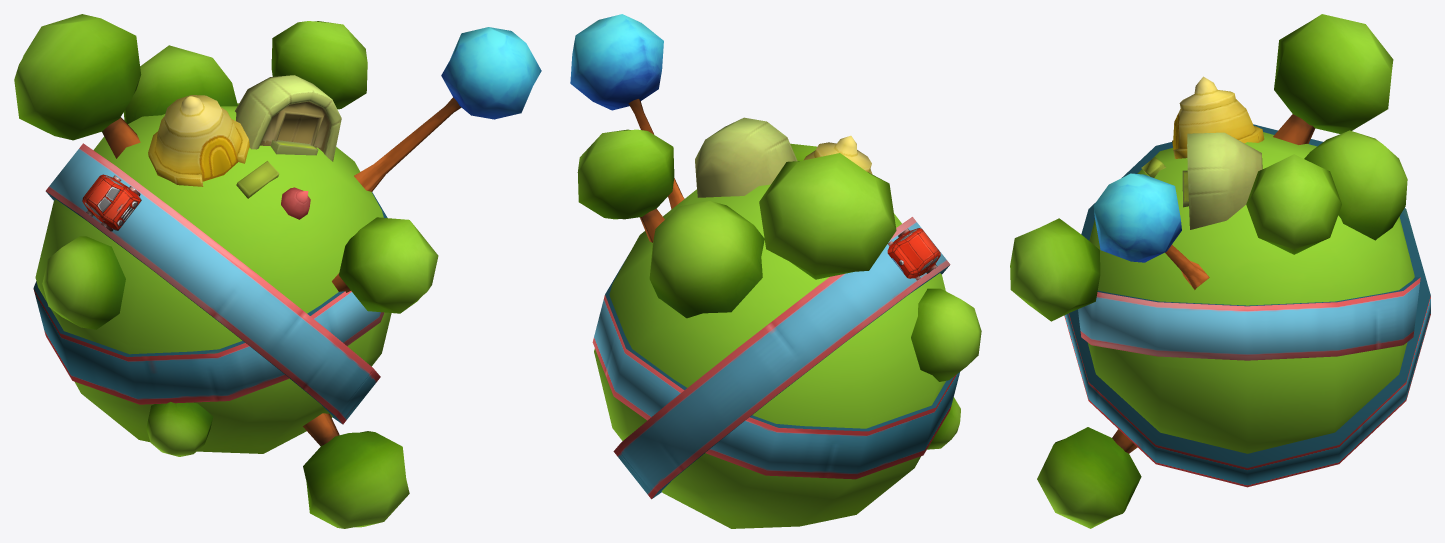
3 views of the same model, side by side, from view 1: azimuth 30°, elevation 25°; view 2: azimuth 150°, elevation 25°; view 3: azimuth 270°, elevation 25° (orthographic). The views are drawn at different scales.
Parts seen in each view (by area): view 1: Object087, Object088; view 2: Object087, Object088; view 3: Object087.
Boxes of the visible parts, x1,y1,x2,y2 form: Object087: (14, 14, 541, 528); Object088: (82, 174, 141, 231); Object087: (570, 14, 981, 528); Object088: (887, 228, 940, 280); Object087: (1010, 14, 1430, 528).
Bounding box in the file's own units: 17097 × 16842 × 14674.
